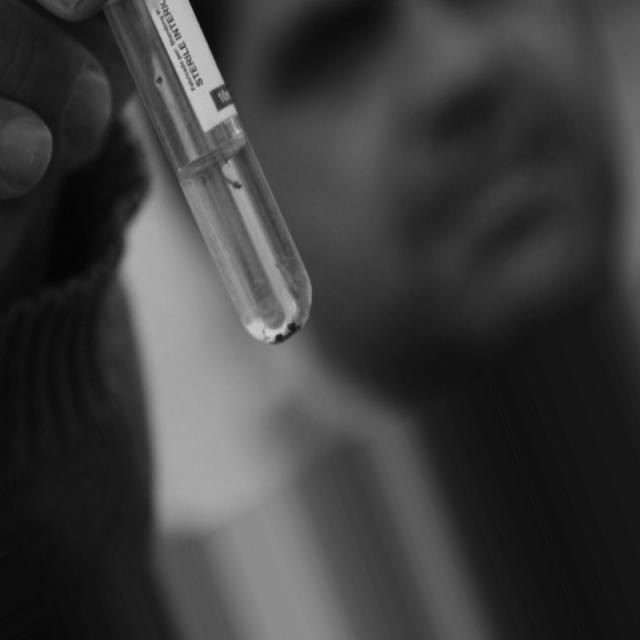larvas: (278, 255, 299, 298), (216, 161, 242, 188)
